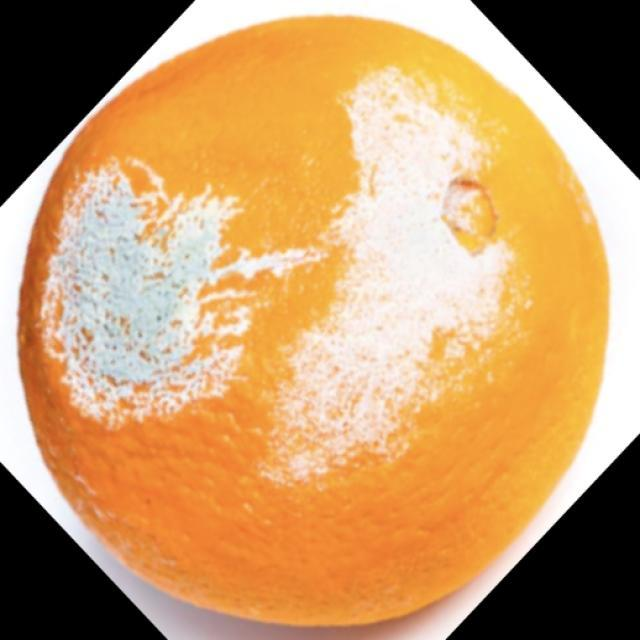sedikit-busuk: (19, 17, 607, 624)
